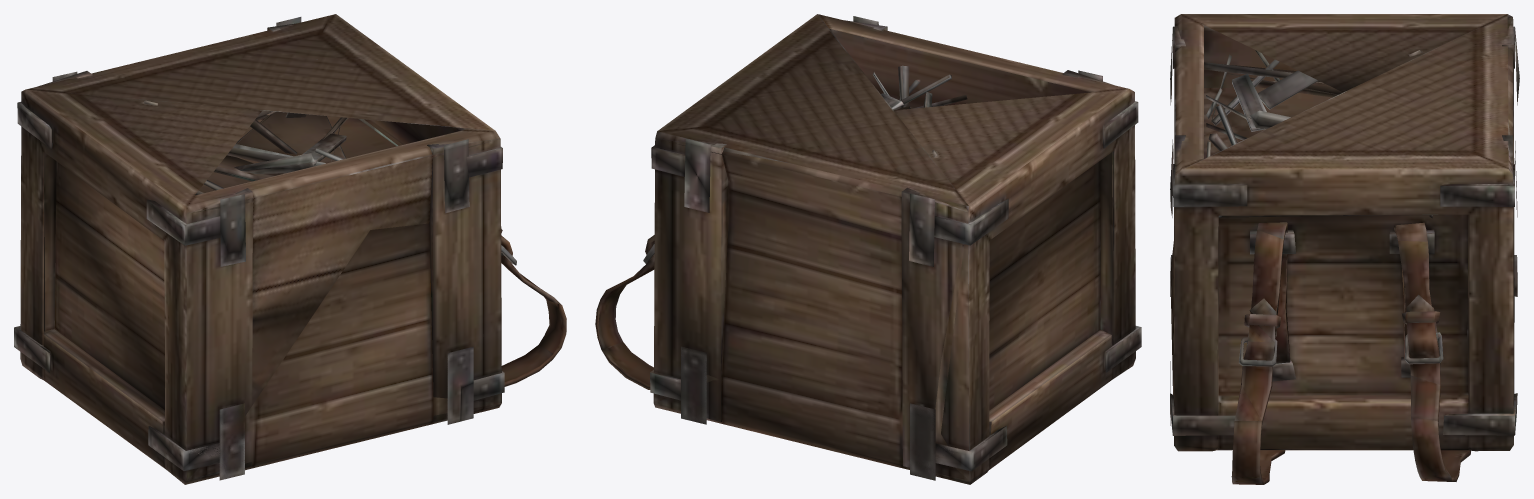
The model's file is pack_ironCrate.glb.
The picture shows the model from 3 angles, left to right: view 1: azimuth 30°, elevation 25°; view 2: azimuth 150°, elevation 25°; view 3: azimuth 270°, elevation 25°; orthographic projection. The views are drawn at different scales.
Size of the model in its own units: 0.9531 by 0.6363 by 0.6841.
Materials: 1 (1 with a texture image).
